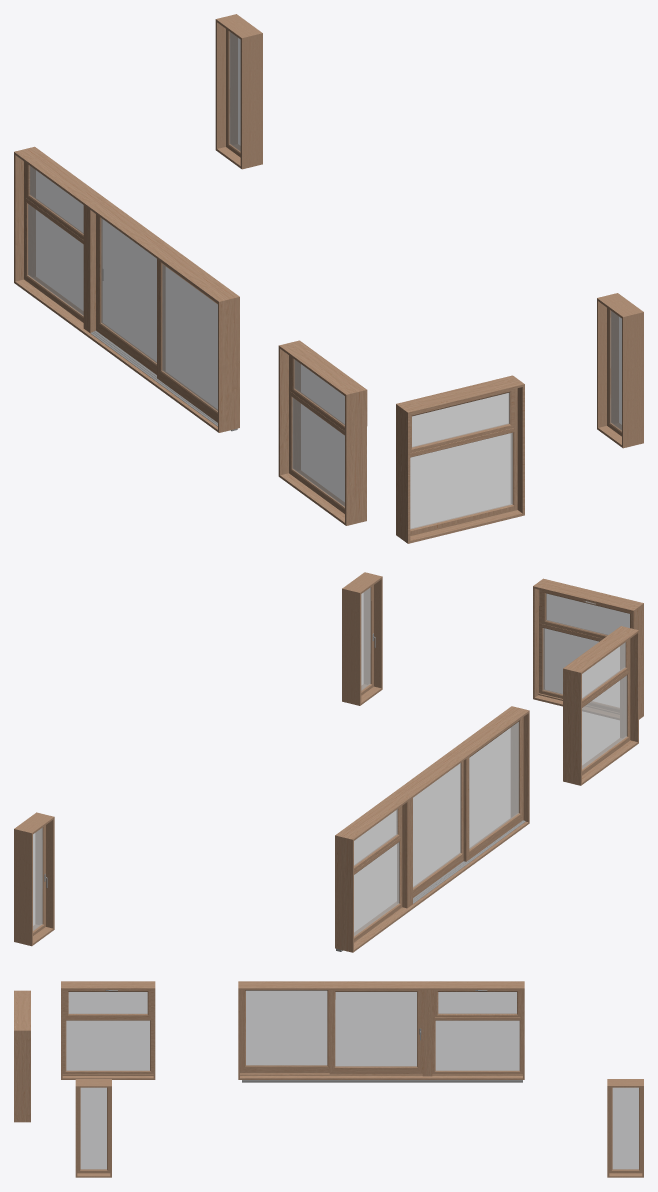
Rendered from Wood_Window.glb.
3 views of the same model, one above another, from view 1: azimuth 30°, elevation 25°; view 2: azimuth 150°, elevation 25°; view 3: azimuth 270°, elevation 25° (orthographic). The views are drawn at different scales.
Visible parts, largest first — view 1: object_36.002, object_16.002, object_33.002, object_20.002, object_54.001, object_39.002, object_21.002, object_52.002, object_22.002, object_56.001; view 2: object_36.002, object_16.002, object_54.001, object_20.002, object_33.002, object_39.002, object_21.002, object_52.002, object_22.002, object_56.001; view 3: object_16.002, object_36.002, object_39.002, object_22.002, object_56.001, object_21.002, object_52.002, object_20.002, object_54.001, object_19.002, object_53.001.
Boxes of the visible parts, x1=… form: object_36.002: x1=14, y1=146, x2=524, y2=543; object_16.002: x1=28, y1=166, x2=217, y2=410; object_33.002: x1=410, y1=393, x2=512, y2=529; object_20.002: x1=215, y1=14, x2=262, y2=169; object_54.001: x1=597, y1=293, x2=643, y2=448; object_39.002: x1=292, y1=359, x2=344, y2=506; object_21.002: x1=229, y1=32, x2=240, y2=151; object_52.002: x1=610, y1=311, x2=621, y2=430; object_22.002: x1=230, y1=32, x2=240, y2=150; object_56.001: x1=611, y1=312, x2=621, y2=429; object_36.002: x1=335, y1=578, x2=643, y2=952; object_16.002: x1=354, y1=722, x2=518, y2=936; object_54.001: x1=342, y1=572, x2=382, y2=705; object_20.002: x1=14, y1=812, x2=54, y2=946; object_33.002: x1=543, y1=593, x2=629, y2=694; object_39.002: x1=582, y1=600, x2=626, y2=769; object_21.002: x1=33, y1=827, x2=42, y2=930; object_52.002: x1=361, y1=587, x2=370, y2=690; object_22.002: x1=33, y1=829, x2=41, y2=929; object_56.001: x1=361, y1=588, x2=369, y2=689; object_16.002: x1=246, y1=990, x2=519, y2=1070; object_36.002: x1=14, y1=981, x2=524, y2=1122; object_39.002: x1=66, y1=992, x2=149, y2=1070; object_22.002: x1=612, y1=1087, x2=638, y2=1169; object_56.001: x1=80, y1=1087, x2=106, y2=1169; object_21.002: x1=613, y1=1088, x2=638, y2=1168; object_52.002: x1=81, y1=1088, x2=106, y2=1168; object_20.002: x1=607, y1=1079, x2=643, y2=1177; object_54.001: x1=75, y1=1079, x2=111, y2=1177; object_19.002: x1=609, y1=1087, x2=642, y2=1173; object_53.001: x1=77, y1=1087, x2=110, y2=1173.
Size of the model in its own units: 2.18 by 0.91 by 5.52.
Materials: 4 (2 with a texture image).
